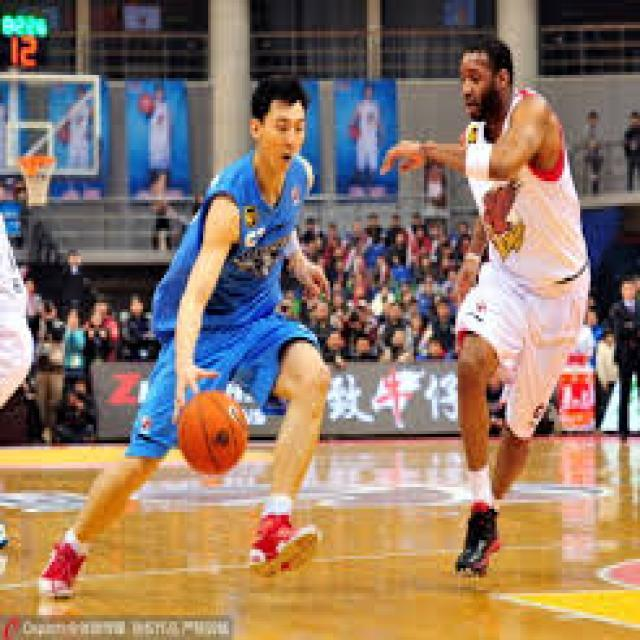rim: (180, 387, 244, 472)
